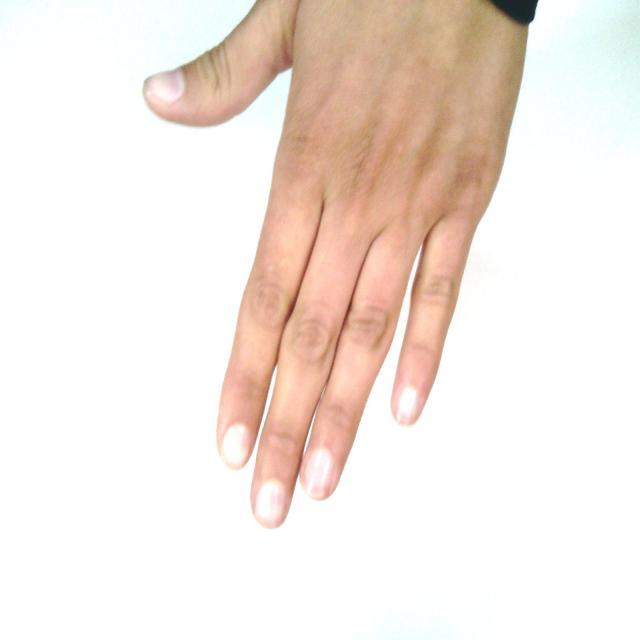Fingernail: (304, 449, 332, 500), (255, 480, 286, 526), (145, 72, 183, 103), (222, 425, 250, 467), (397, 388, 419, 425)
